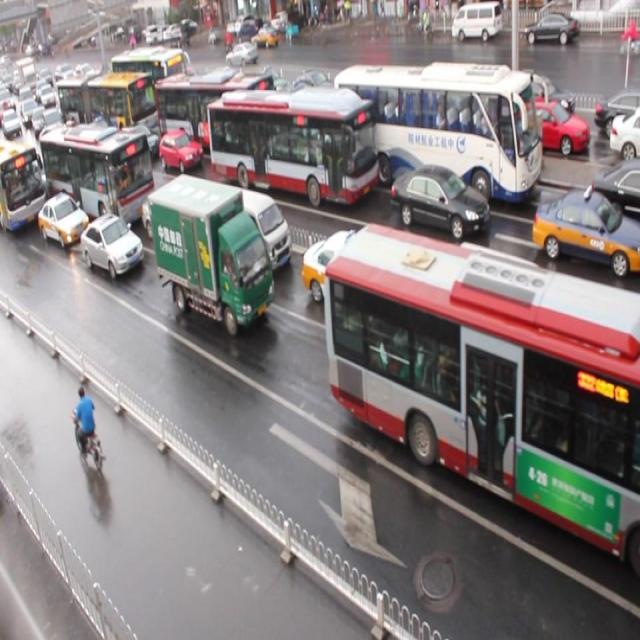bus: (148, 173, 274, 333)
car: (530, 186, 640, 275), (300, 228, 404, 321), (390, 162, 490, 240), (141, 185, 208, 250), (81, 213, 144, 275), (588, 153, 640, 227), (36, 187, 88, 243), (159, 128, 202, 172), (116, 123, 160, 164)
truck: (440, 240, 568, 386), (216, 186, 292, 276)
van: (324, 223, 640, 570), (334, 66, 541, 204), (206, 90, 377, 204), (38, 121, 156, 232), (154, 70, 274, 160), (58, 71, 158, 132), (1, 134, 46, 226)
